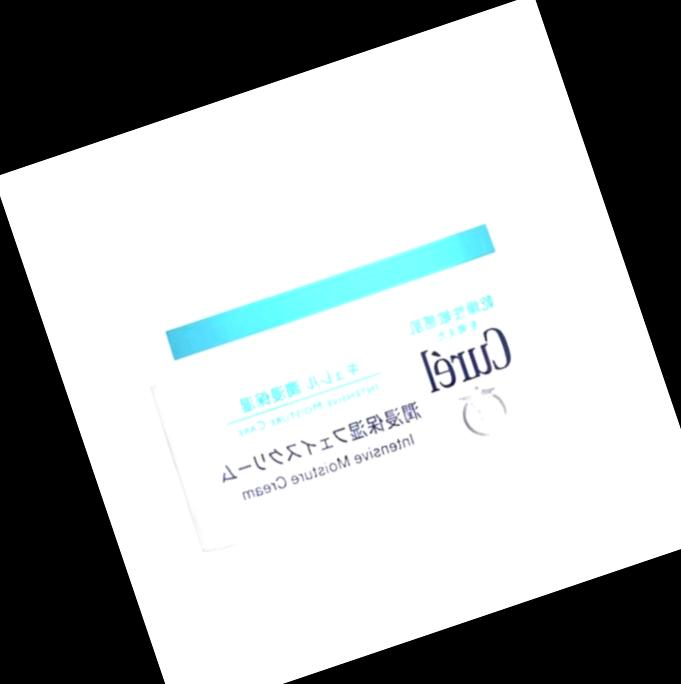cosmetic: (104, 134, 598, 556)
